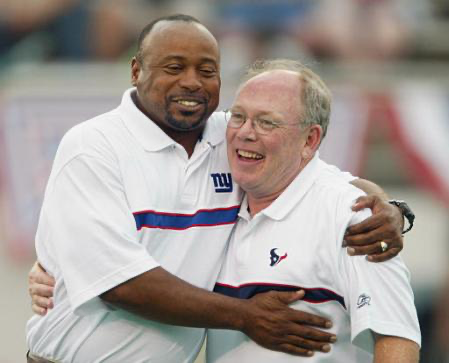Face: (218, 90, 299, 196), (139, 39, 219, 142)
